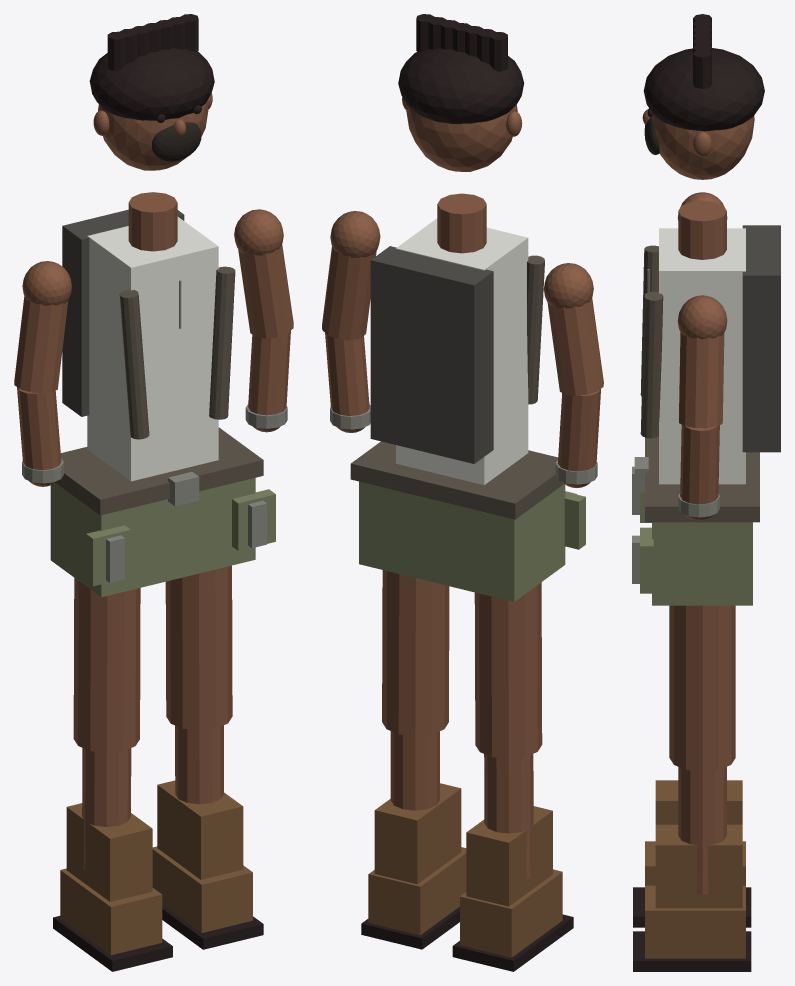
Rendered from player.glb.
3 views of the same model, side by side, from view 1: azimuth 30°, elevation 25°; view 2: azimuth 150°, elevation 25°; view 3: azimuth 270°, elevation 25° (orthographic).
Visible parts, largest first — view 1: male_shirt, male_shorts, male_leg_-1, male_leg_1, male_haircap, male_belt, male_ankleboot_1, male_ankleboot_-1, male_backpack, male_boot_-1, male_boot_1, male_upperarm_-1 (+22 smaller); view 2: male_backpack, male_shorts, male_shirt, male_leg_-1, male_leg_1, male_belt, male_haircap, male_ankleboot_1, male_ankleboot_-1, male_boot_-1, male_boot_1, male_head (+15 smaller); view 3: male_shirt, male_leg_1, male_backpack, male_shorts, male_haircap, male_ankleboot_1, male_boot_1, male_belt, male_shin_1, male_upperarm_1, male_head, male_forearm_1 (+15 smaller).
Part boxes in pixels (x1,y1,x2,y2): male_shirt: [87, 216, 218, 481]; male_shorts: [50, 478, 255, 597]; male_leg_-1: [73, 578, 140, 752]; male_leg_1: [165, 565, 232, 730]; male_haircap: [89, 48, 214, 120]; male_belt: [55, 427, 263, 515]; male_ankleboot_1: [157, 780, 243, 879]; male_ankleboot_-1: [66, 803, 152, 901]; male_backpack: [62, 209, 184, 416]; male_boot_-1: [60, 868, 162, 955]; male_boot_1: [152, 846, 252, 932]; male_upperarm_-1: [14, 296, 68, 393]; male_backpack: [370, 246, 493, 463]; male_shorts: [359, 481, 565, 601]; male_shirt: [396, 218, 528, 484]; male_leg_-1: [474, 582, 542, 758]; male_leg_1: [382, 570, 449, 736]; male_belt: [350, 441, 563, 519]; male_haircap: [398, 48, 524, 124]; male_ankleboot_1: [374, 783, 461, 884]; male_ankleboot_-1: [466, 806, 552, 906]; male_boot_-1: [460, 869, 562, 957]; male_boot_1: [368, 847, 466, 935]; male_head: [406, 105, 517, 171]; male_shirt: [659, 228, 745, 484]; male_leg_1: [669, 605, 735, 771]; male_backpack: [742, 225, 780, 452]; male_shorts: [652, 522, 752, 605]; male_haircap: [643, 48, 764, 131]; male_ankleboot_1: [655, 824, 742, 908]; male_boot_1: [645, 885, 745, 958]; male_belt: [645, 436, 759, 522]; male_shin_1: [678, 767, 726, 894]; male_upperarm_1: [679, 332, 724, 428]; male_head: [651, 114, 754, 179]; male_forearm_1: [680, 425, 719, 504].
Bounding box in the file's own units: 0.5402 × 1.7 × 0.2552.
